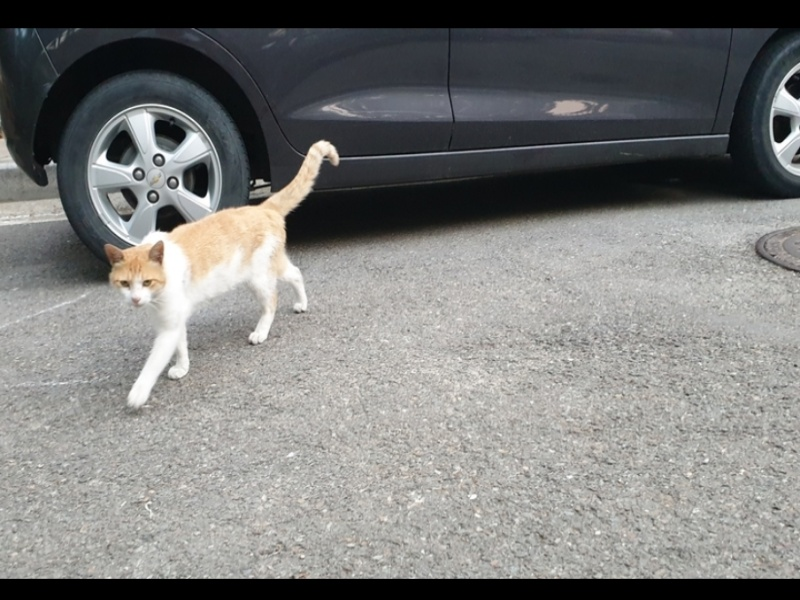cat: (105, 137, 346, 418)
